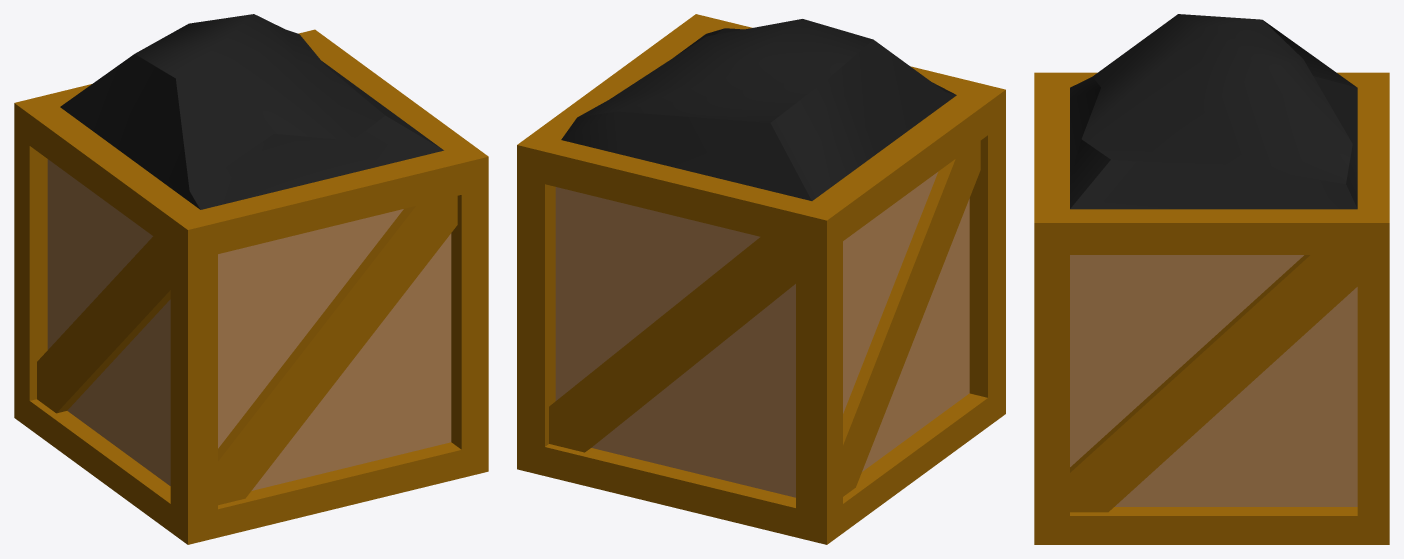
File: CoalBox1.fbx
The picture shows the model from 3 angles, left to right: view 1: azimuth 30°, elevation 25°; view 2: azimuth 150°, elevation 25°; view 3: azimuth 270°, elevation 25°; orthographic projection. The views are drawn at different scales.
Visible parts, largest first — view 1: pCube7; view 2: pCube7; view 3: pCube7.
Boxes of the visible parts, x1,y1,x2,y2 form: pCube7: [14, 14, 488, 544]; pCube7: [517, 14, 1005, 544]; pCube7: [1034, 14, 1389, 544].
Size of the model in its own units: 1 by 1.32 by 1.
